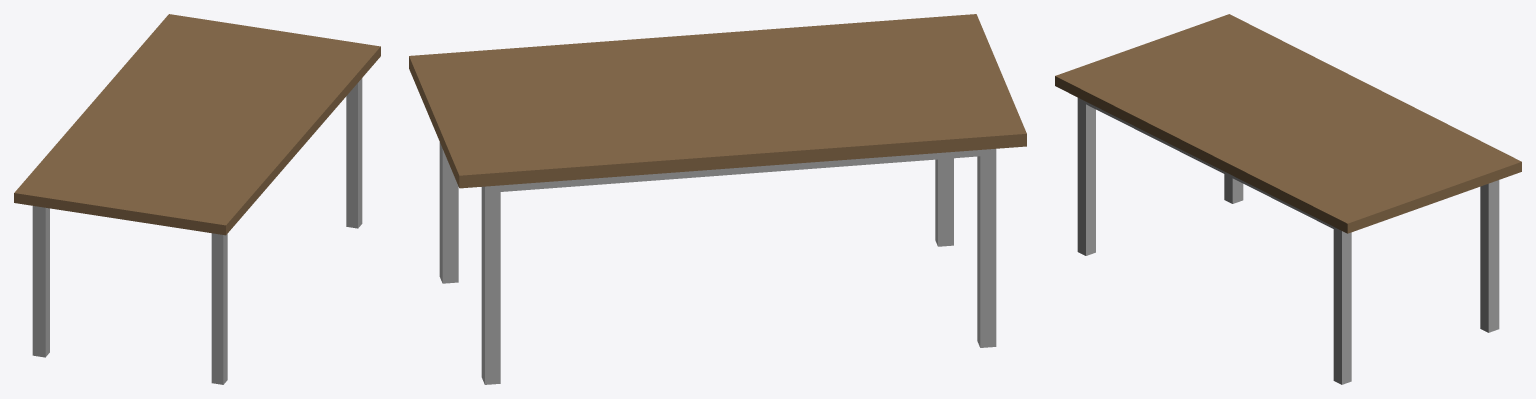
The model's file is mesa1.fbx.
3 renders of one model, left to right at view 1: azimuth 30°, elevation 25°; view 2: azimuth 150°, elevation 25°; view 3: azimuth 270°, elevation 25°, orthographic. The views are drawn at different scales.
Parts seen in each view (by area): view 1: wooden_table_Cube.001, wooden_table.001_Cube.002; view 2: wooden_table_Cube.001, wooden_table.001_Cube.002; view 3: wooden_table_Cube.001, wooden_table.001_Cube.002.
Boxes of the visible parts, x1=… form: wooden_table_Cube.001: x1=14, y1=14, x2=380, y2=235; wooden_table.001_Cube.002: x1=32, y1=78, x2=362, y2=384; wooden_table_Cube.001: x1=409, y1=14, x2=1026, y2=188; wooden_table.001_Cube.002: x1=439, y1=142, x2=996, y2=384; wooden_table_Cube.001: x1=1055, y1=14, x2=1521, y2=233; wooden_table.001_Cube.002: x1=1077, y1=98, x2=1499, y2=384.
Size of the model in its own units: 2418 by 923 by 2275.
